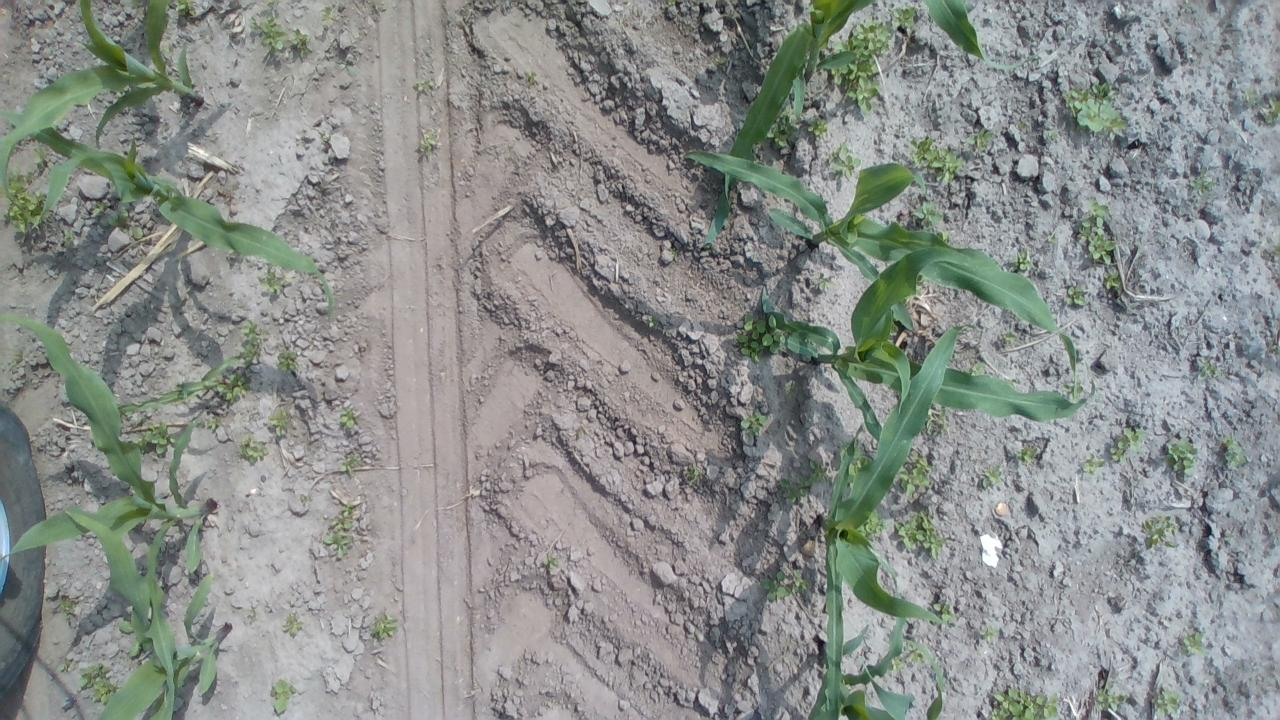Maize: (695, 0, 1035, 230), (759, 230, 1096, 450), (1, 320, 220, 646), (19, 122, 338, 320), (810, 314, 960, 720), (684, 148, 987, 330), (2, 0, 201, 195), (68, 505, 226, 720), (804, 616, 953, 718), (115, 349, 254, 426)
Weeds: (822, 19, 889, 115), (1063, 79, 1131, 138), (1076, 199, 1120, 270), (2, 166, 46, 236), (908, 134, 966, 184), (734, 314, 788, 364), (896, 509, 947, 561), (986, 685, 1062, 719), (248, 14, 305, 58), (779, 462, 830, 504), (322, 500, 358, 557), (76, 658, 116, 706), (760, 566, 813, 602), (898, 452, 933, 500), (134, 417, 174, 456), (768, 98, 798, 149), (1141, 514, 1179, 550), (1166, 437, 1199, 478), (828, 140, 862, 178), (1109, 428, 1144, 464), (238, 319, 264, 365), (912, 200, 947, 233), (212, 372, 248, 404), (268, 676, 296, 712), (1094, 682, 1127, 712), (236, 434, 270, 463), (92, 200, 125, 228), (1222, 434, 1248, 469), (921, 405, 949, 437), (258, 266, 288, 295), (1152, 686, 1181, 716), (740, 410, 771, 438), (370, 613, 400, 641), (268, 406, 294, 436), (966, 127, 996, 152), (930, 601, 956, 628), (1180, 630, 1206, 657), (979, 464, 1004, 492), (893, 4, 919, 29), (862, 511, 888, 536), (338, 453, 367, 475), (906, 640, 930, 666), (806, 114, 830, 140), (1188, 174, 1216, 196), (281, 613, 306, 637), (276, 349, 300, 374), (1060, 379, 1086, 402), (849, 450, 872, 476), (1063, 284, 1087, 308), (1012, 250, 1036, 274), (339, 405, 362, 430), (58, 596, 76, 624), (118, 612, 137, 638), (978, 621, 999, 644), (963, 357, 988, 376), (1199, 357, 1220, 379), (1102, 270, 1123, 292), (172, 1, 199, 18), (4, 348, 22, 373), (1079, 457, 1105, 474), (59, 228, 79, 250), (1262, 94, 1276, 124), (1016, 444, 1038, 463), (419, 132, 438, 154), (887, 655, 906, 676), (32, 146, 50, 168), (133, 636, 152, 656), (128, 222, 146, 243), (320, 6, 338, 26), (56, 657, 74, 676), (1000, 330, 1020, 347), (413, 76, 434, 92), (541, 554, 562, 570), (816, 274, 834, 292), (684, 466, 702, 483), (338, 60, 357, 76), (1242, 89, 1258, 108), (784, 380, 798, 401), (206, 416, 224, 430), (1044, 232, 1060, 246), (644, 316, 658, 330), (523, 70, 538, 83), (716, 54, 729, 67), (668, 248, 679, 260)
